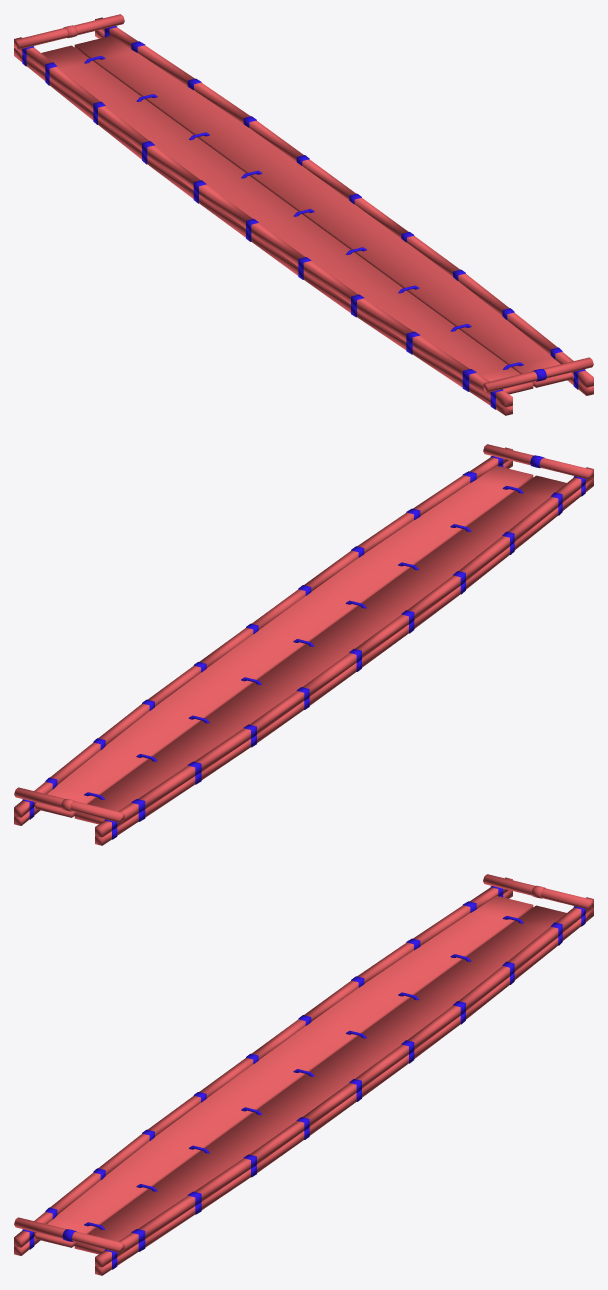
Rendered from SM_Tipairua_SailSupport1.fbx.
3 renders of one model, top to bottom at view 1: azimuth 30°, elevation 25°; view 2: azimuth 150°, elevation 25°; view 3: azimuth 330°, elevation 25°, orthographic.
Parts seen in each view (by area): view 1: SM_TIpairua_Desk_ForSail; view 2: SM_TIpairua_Desk_ForSail; view 3: SM_TIpairua_Desk_ForSail.
Part boxes in pixels (<box>): SM_TIpairua_Desk_ForSail: <box>14,14,593,415</box>; SM_TIpairua_Desk_ForSail: <box>14,444,593,845</box>; SM_TIpairua_Desk_ForSail: <box>14,874,593,1275</box>.
Bounding box in the file's own units: 940 × 123 × 29.98.
